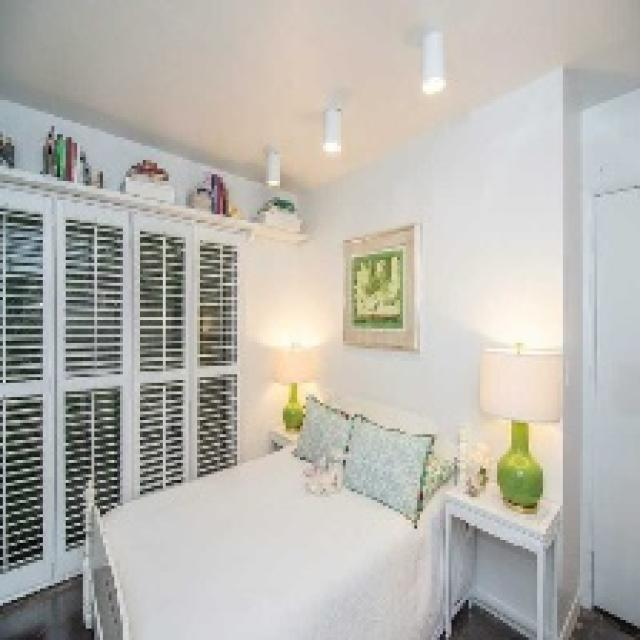Bed: (80, 392, 474, 637)
